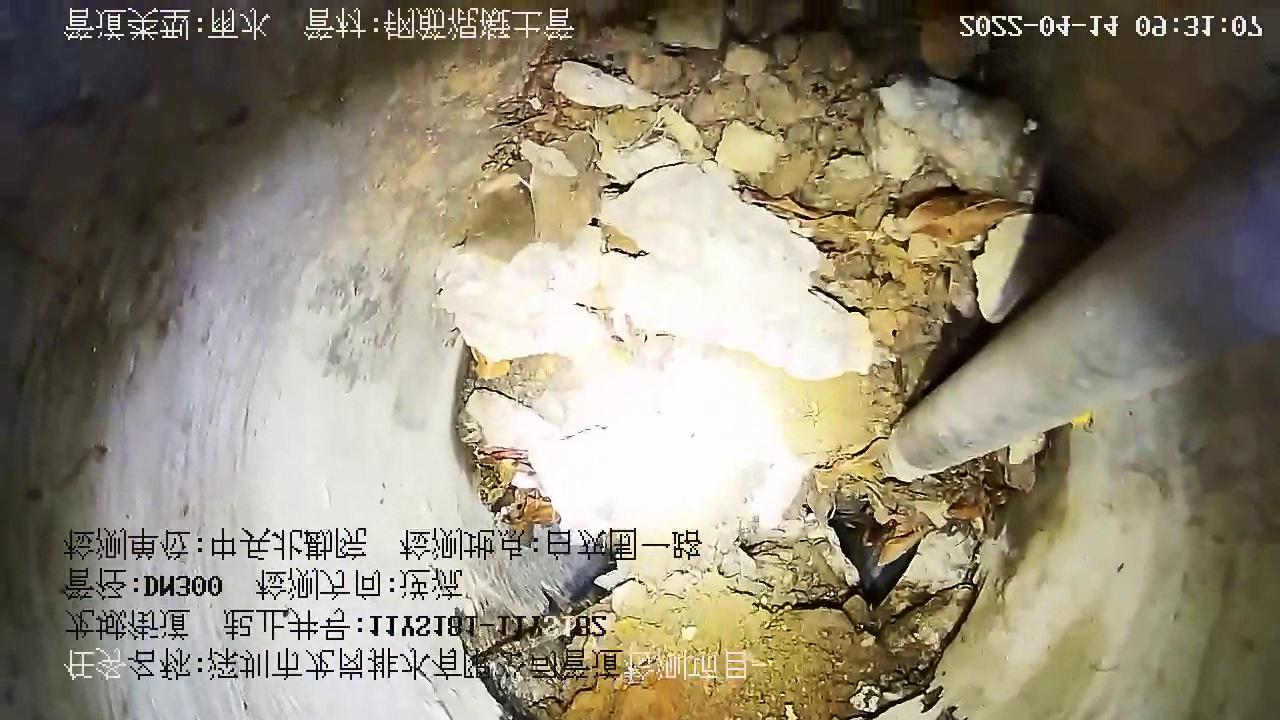YWCR: (881, 106, 1279, 480)
